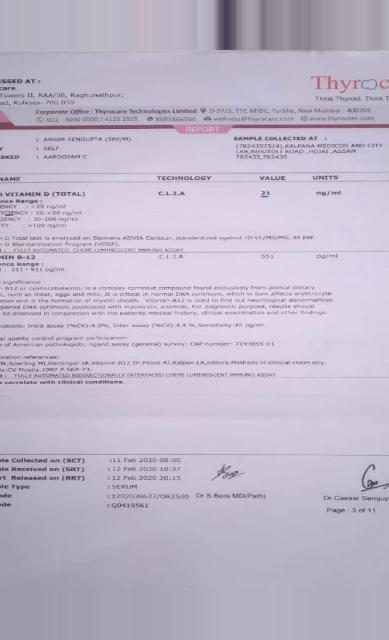Clinical_Conditions: (1, 279, 340, 319)
Name: (42, 135, 132, 144)
Ref_By: (42, 145, 62, 152)
Technology: (157, 253, 190, 265), (156, 189, 191, 200)
Test_Asked: (42, 154, 93, 160)
Test_Name: (0, 189, 93, 231), (0, 251, 72, 276)
Unit: (313, 186, 347, 199), (315, 251, 343, 264)
Value: (258, 188, 277, 202), (259, 252, 280, 262)
